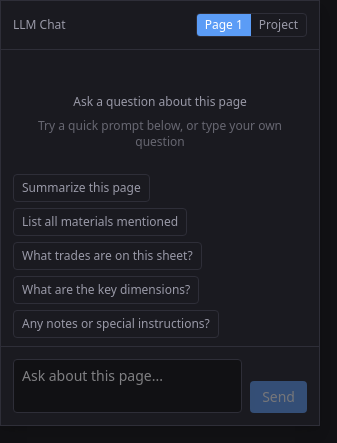
Test case: ChatPanel — send HTTP !ok (T-B3) › appends user echo then an Error assistant via apiErrorMessage; skips the done-append
The width and height of the screenshot is (337, 443).
Type "boom" into the text box with placeholder "Ask about this page..." at (128, 386), box [13, 359, 242, 413]
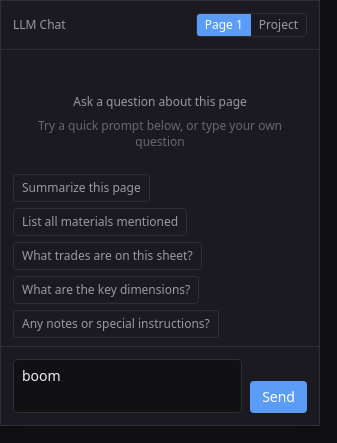
Click the button "Send" at (279, 397), box [250, 381, 307, 413]
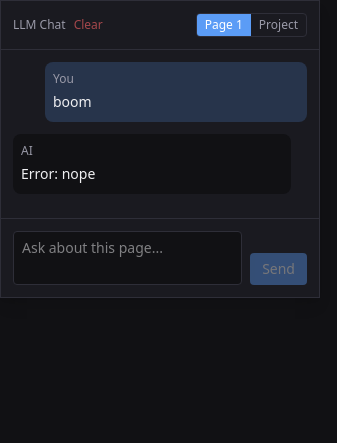
Expected: the text "AI" is shown once, [21, 142, 33, 159]
